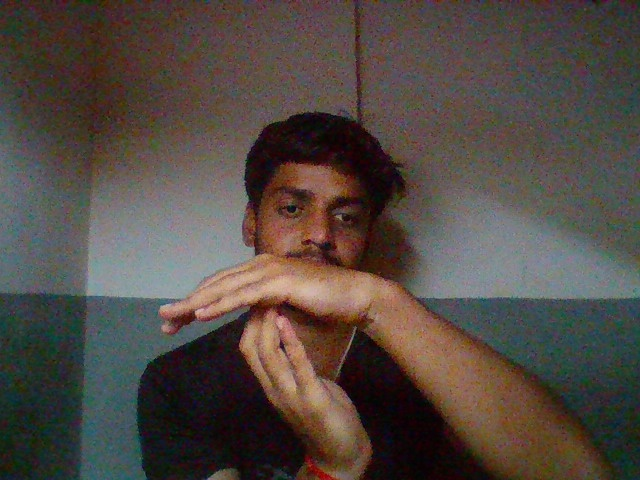J: (141, 238, 435, 475)
